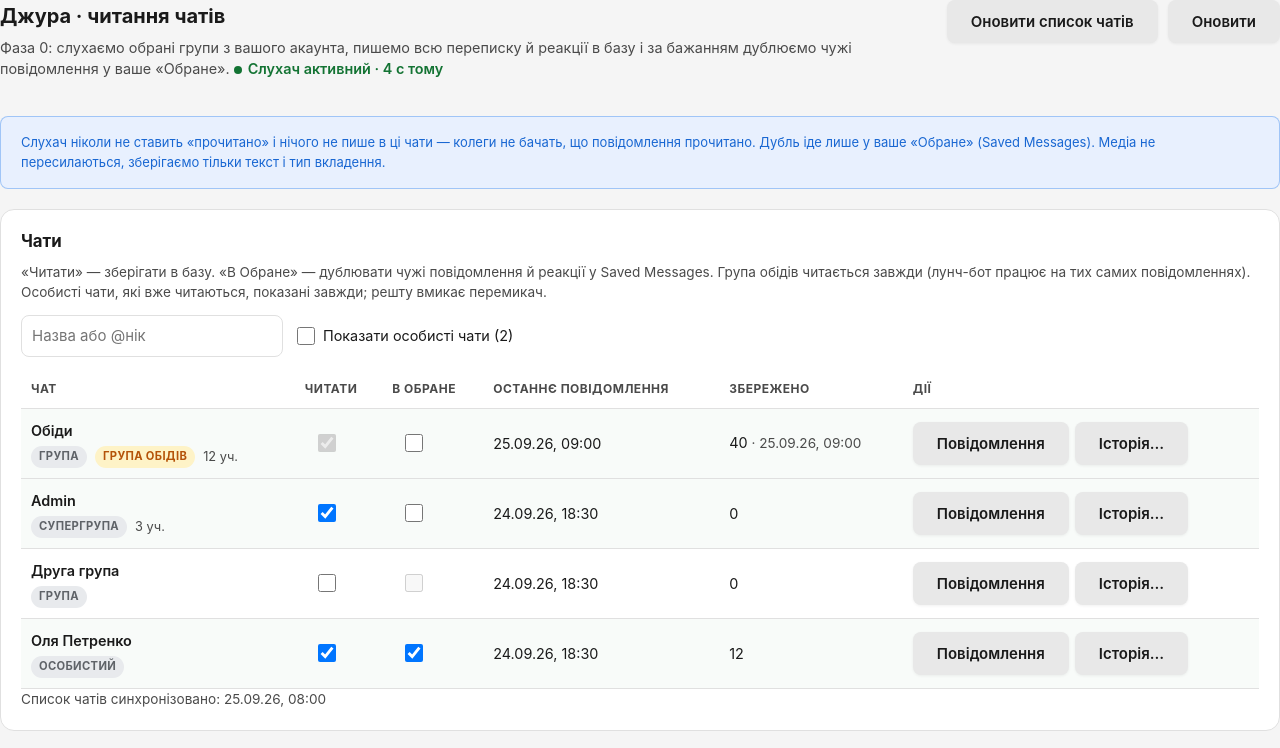
DzhuraTab › експорт JSON: тягне файл з авторизацією і завантажує під ім'ям із заголовка
Expected: the text "Admin" is shown, [31,492,76,509]
Click the button "Історія…" in the row of "Admin" at (1131, 513), box [1075,492,1188,535]
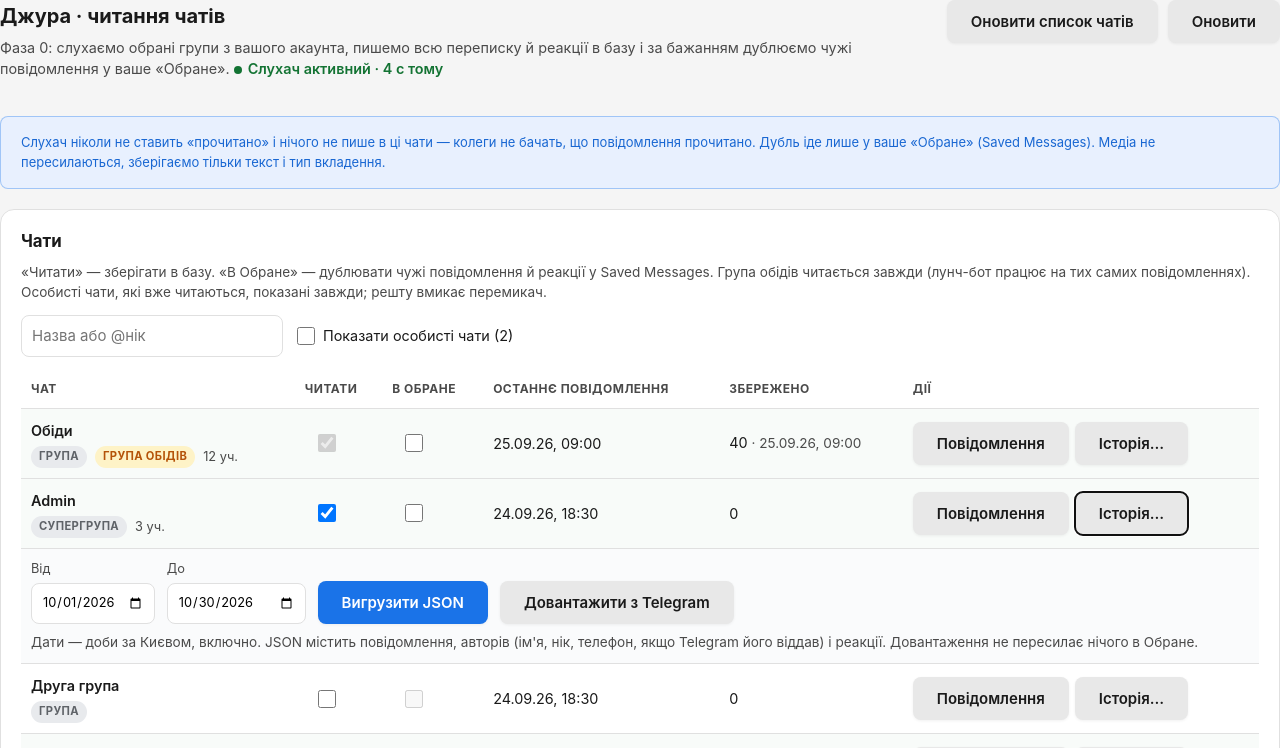
Type "2026-09-01" into the date field with id "dzhura-from-2" at (93, 603), box [31,583,155,624]
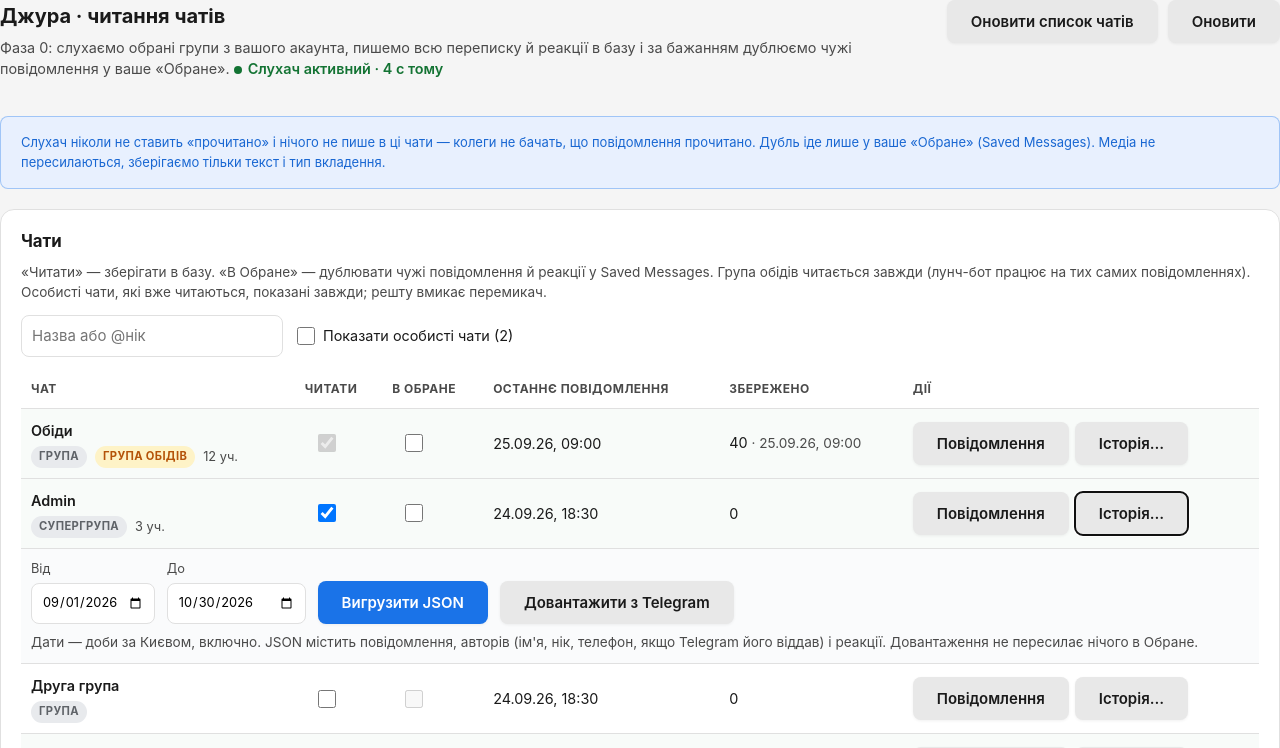
Type "2026-09-07" into the date field with id "dzhura-to-2" at (236, 603), box [167,583,306,624]
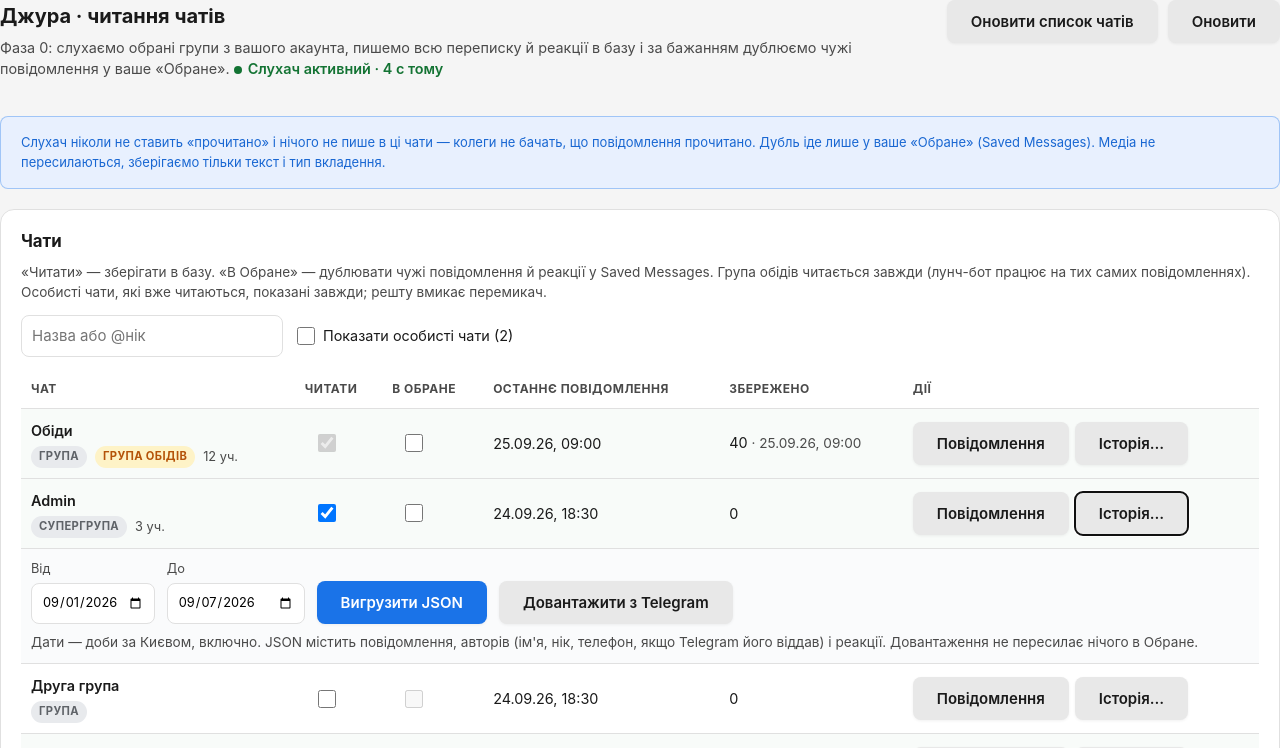
Click the button "Вигрузити JSON" at (402, 602), box [317,581,487,624]
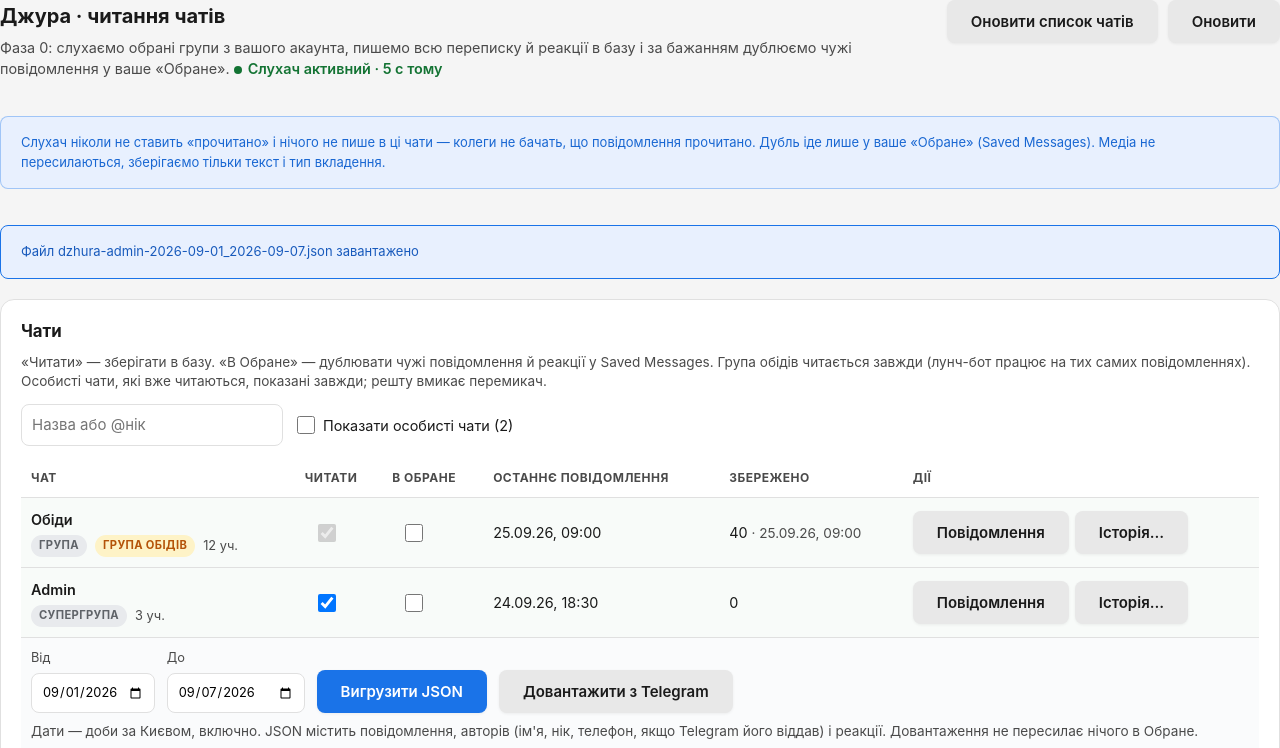
Expected: the text "Файл dzhura-admin-2026-09-01_2026-09-07.json завантажено" is shown, [0,225,1279,279]
